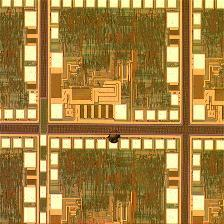PARTICLE: (107, 129, 123, 145)
